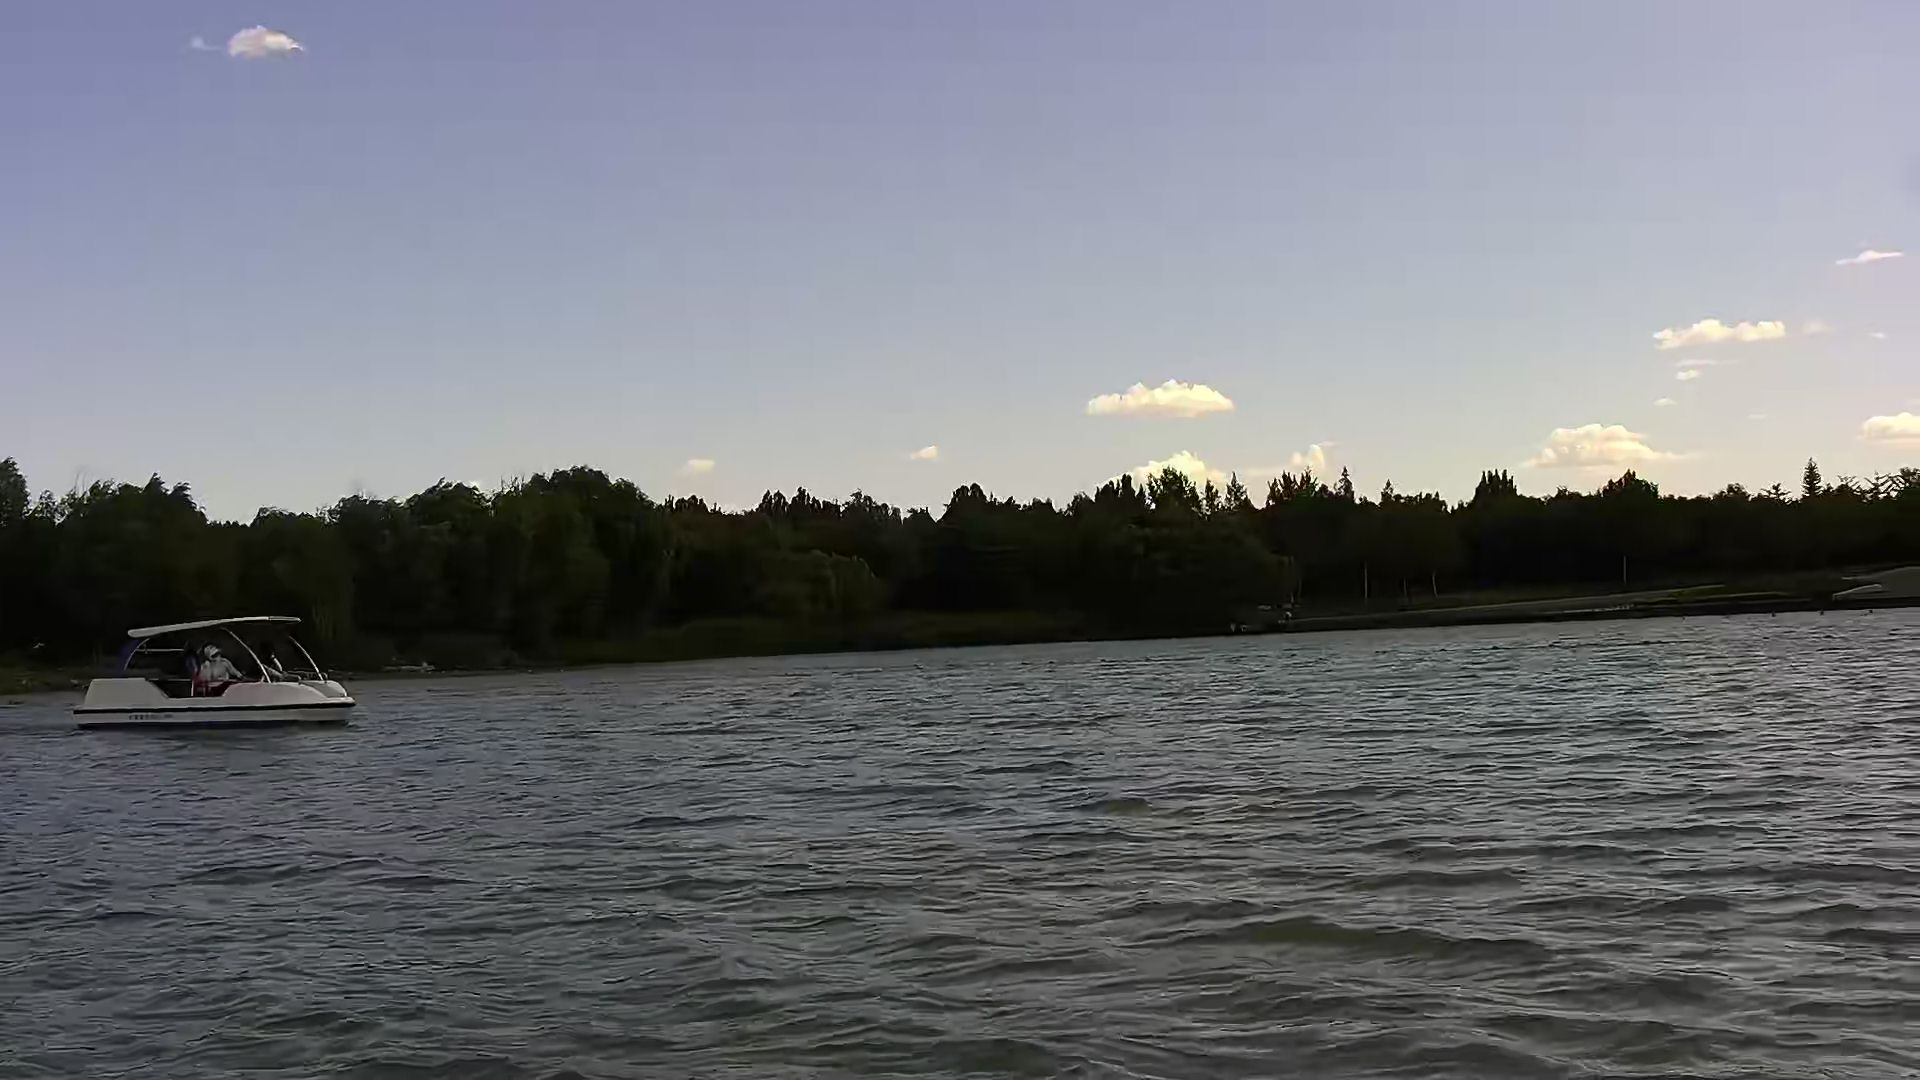boat: (73, 613, 359, 731)
harbor: (1220, 549, 1920, 632)
person: (196, 645, 244, 697)
